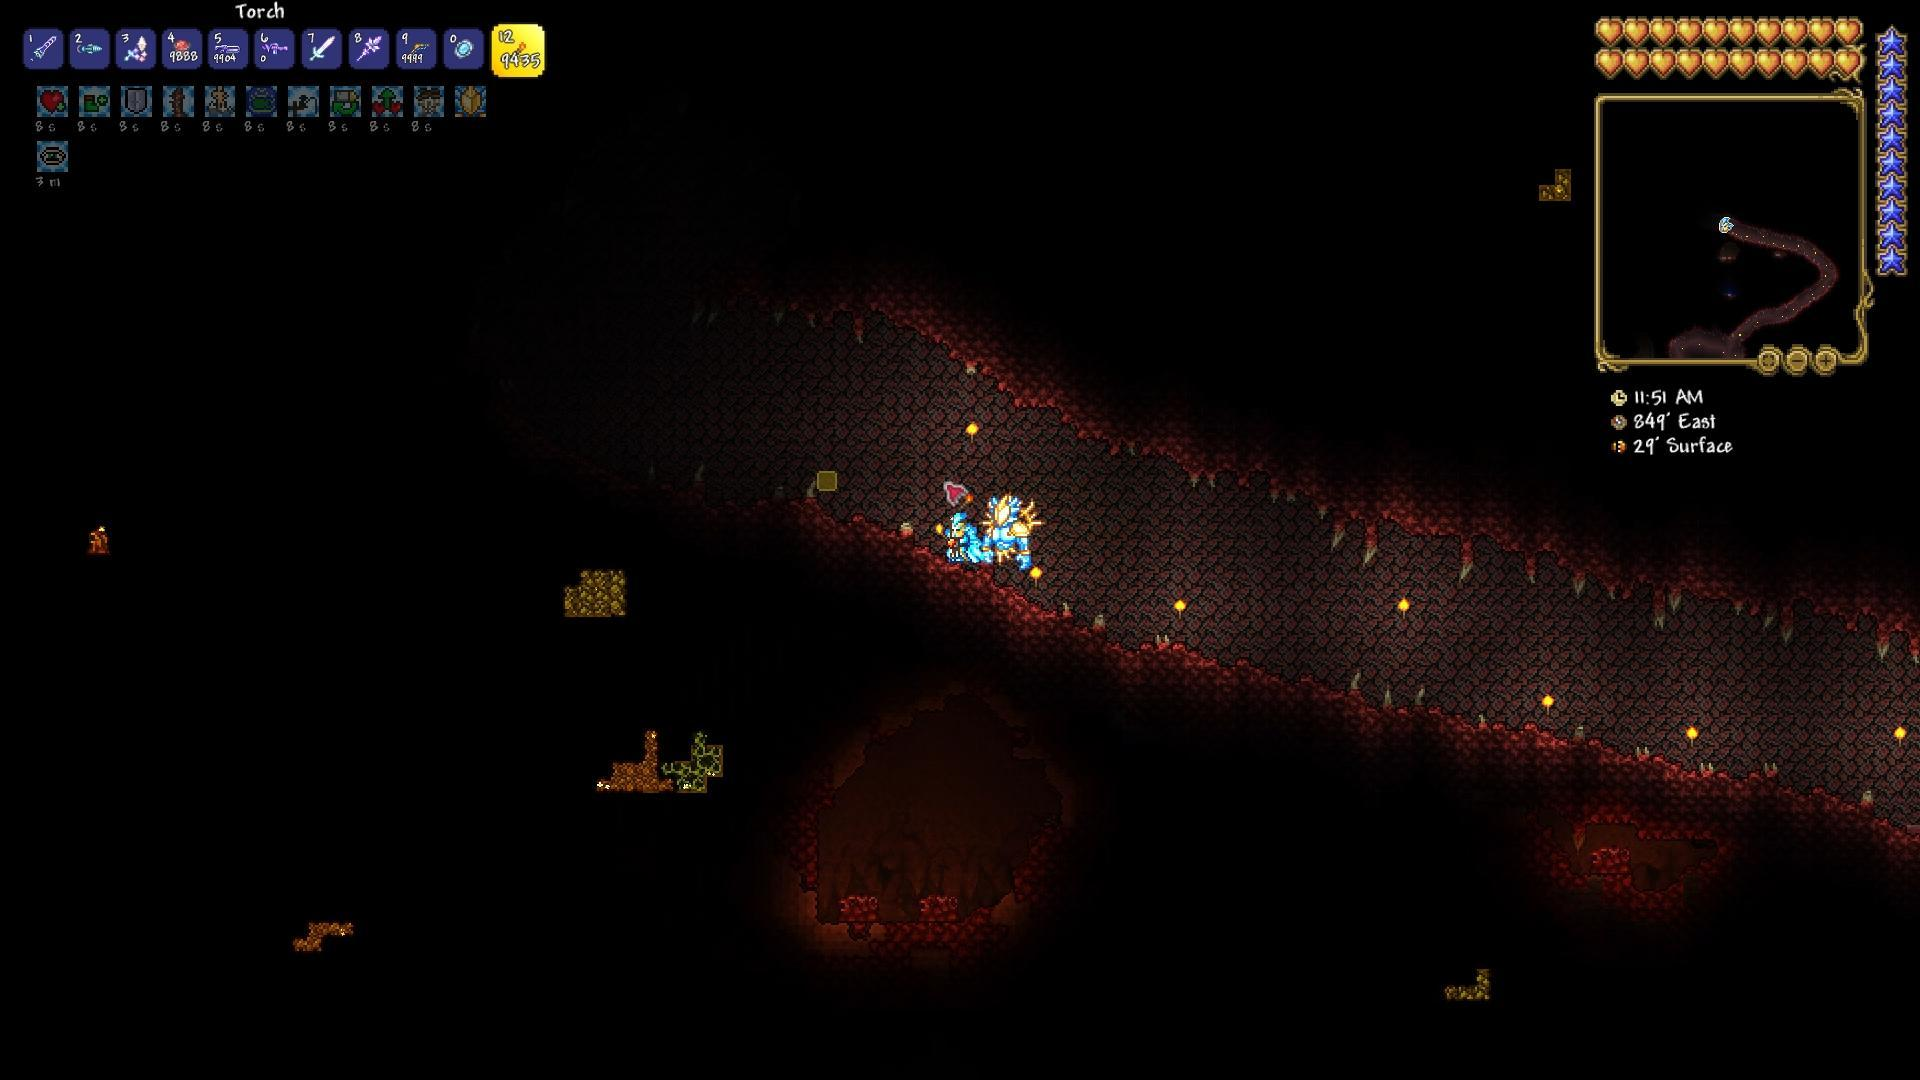altar: (1586, 839, 1634, 877), (915, 890, 964, 924), (836, 890, 881, 923)
